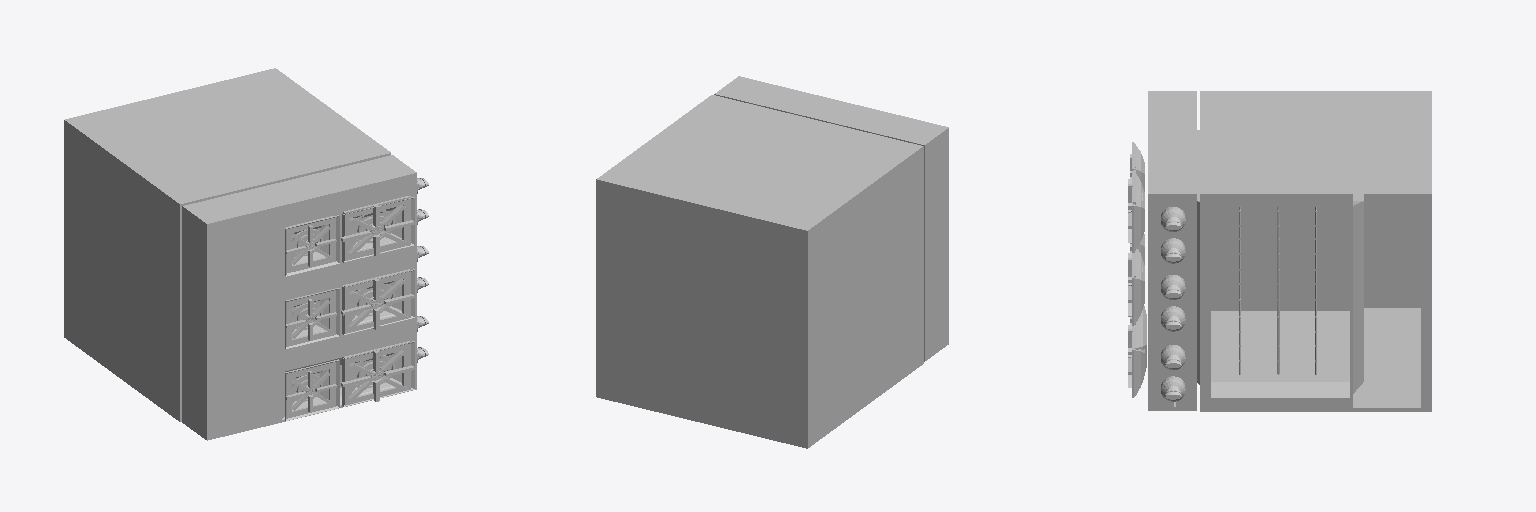
File: oven.obj
3 views of the same model, side by side, from view 1: azimuth 30°, elevation 25°; view 2: azimuth 150°, elevation 25°; view 3: azimuth 270°, elevation 25° (orthographic).
Visible parts, largest first — view 1: Stove01.001; view 2: Stove01.001; view 3: Stove01.001.
Boxes of the visible parts, x1,y1,x2,y2 form: Stove01.001: [64, 68, 428, 440]; Stove01.001: [596, 76, 948, 448]; Stove01.001: [1128, 91, 1431, 411].
Size of the model in its own units: 1.1 by 0.9915 by 1.26.